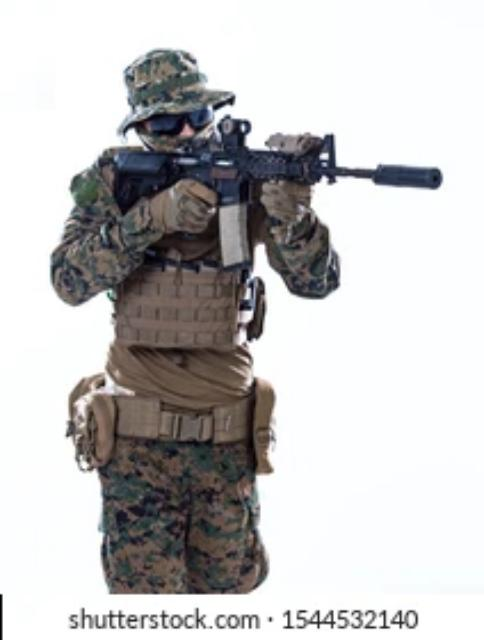other: (48, 23, 331, 597)
